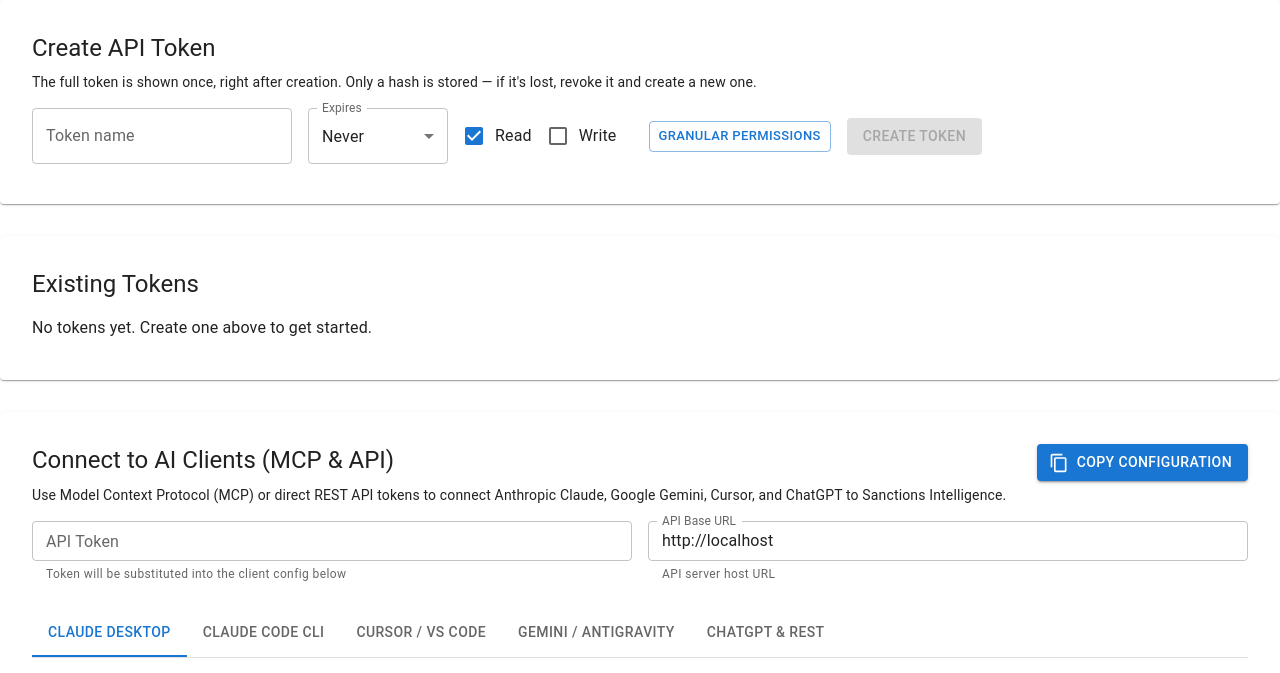
Test: ApiTokensTab token creation error handling (issue #166) › falls back to a friendly error message when token creation returns a non-JSON error (e.g. 502 HTML)
Expected: the heading "Create API Token" is shown, [32,34,215,62]
Step 1. Type "Test Token" into the field labelled "Token name" → (162, 136), box [32,108,292,164]
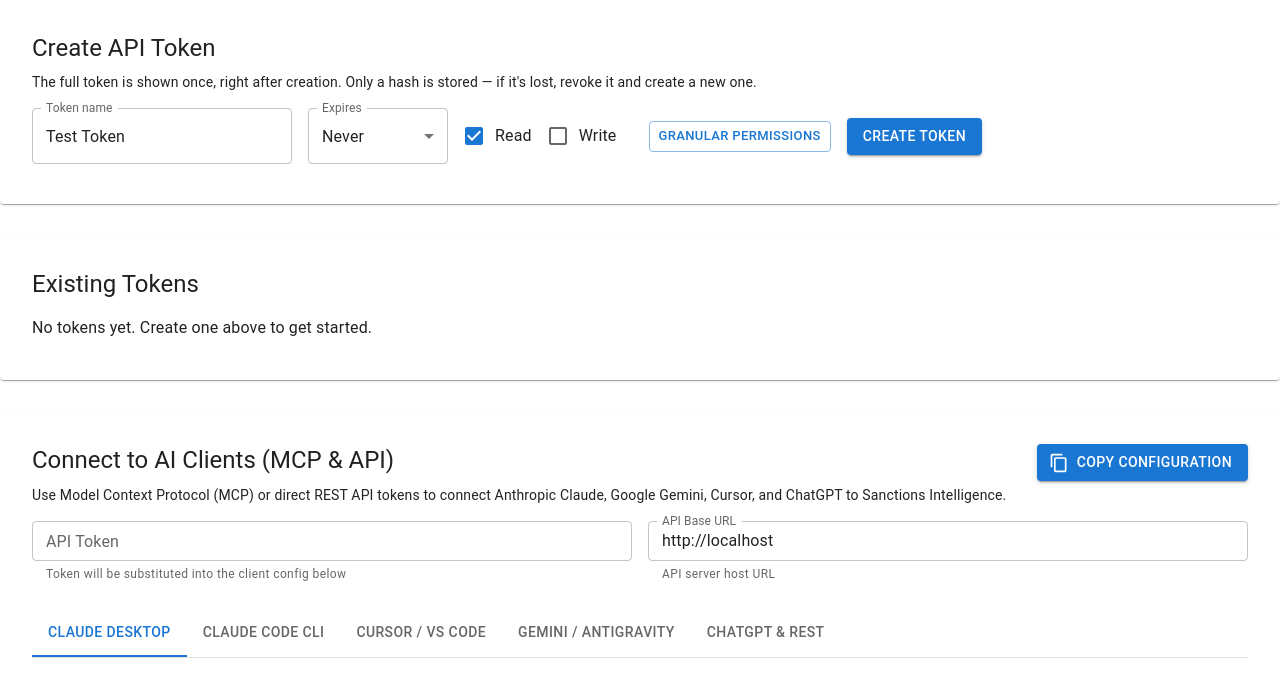
Step 2. Click the button "Create Token" → (914, 136), box [847,118,982,155]
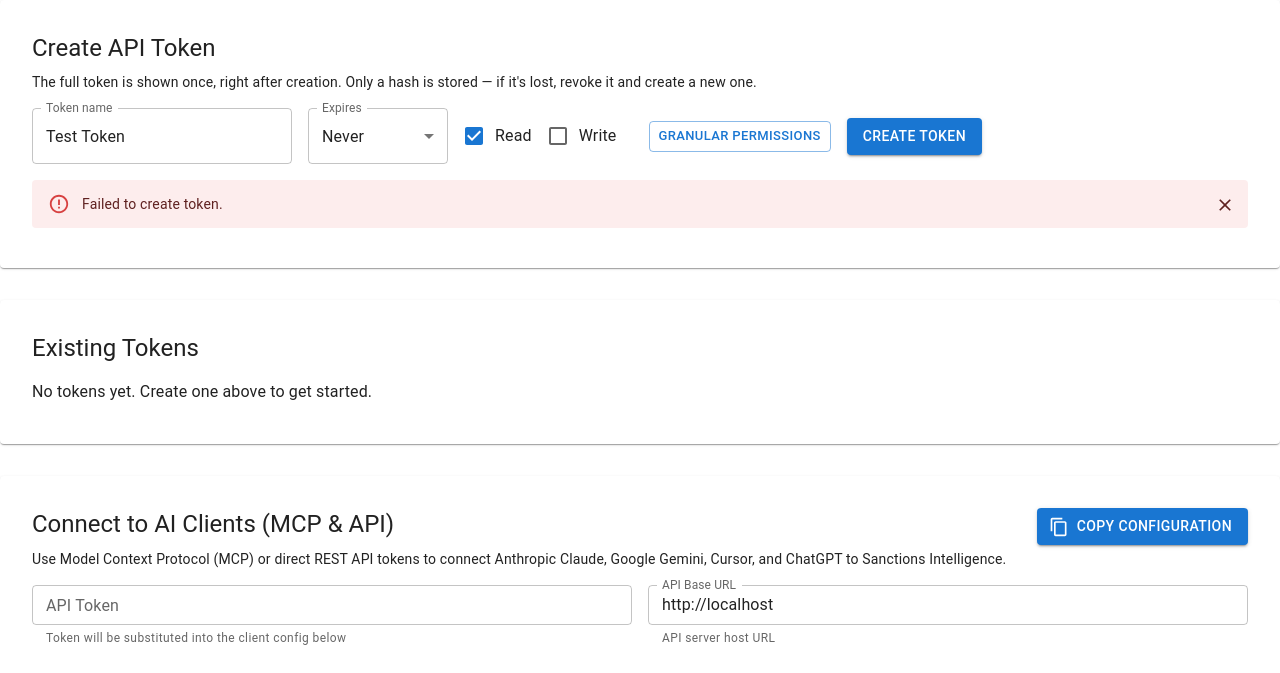
Expected: the text "Failed to create token." is shown, [82,196,223,212]
